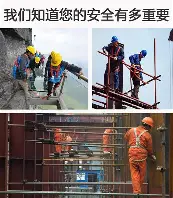safety belt: (126, 130, 152, 156), (107, 46, 123, 70), (16, 54, 30, 77), (45, 63, 63, 80), (132, 56, 145, 79)
